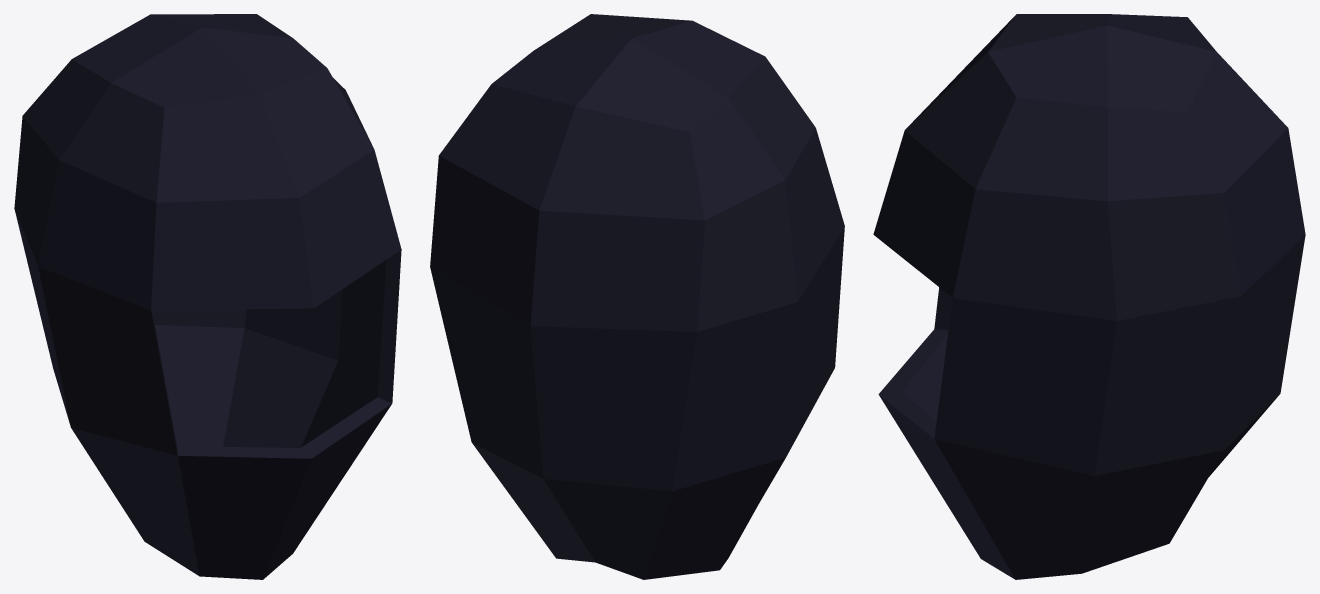
Rendered from topeng.fbx.
The picture shows the model from 3 angles, left to right: view 1: azimuth 30°, elevation 25°; view 2: azimuth 150°, elevation 25°; view 3: azimuth 270°, elevation 25°; orthographic projection. The views are drawn at different scales.
Visible parts, largest first — view 1: Topeng; view 2: Topeng; view 3: Topeng.
Part boxes in pixels (x1=…): Topeng: x1=14, y1=14, x2=401, y2=579; Topeng: x1=430, y1=14, x2=844, y2=579; Topeng: x1=873, y1=14, x2=1305, y2=579.
Bounding box in the file's own units: 72.29 × 110 × 80.68.
